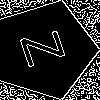Z: (19, 25, 76, 68)
